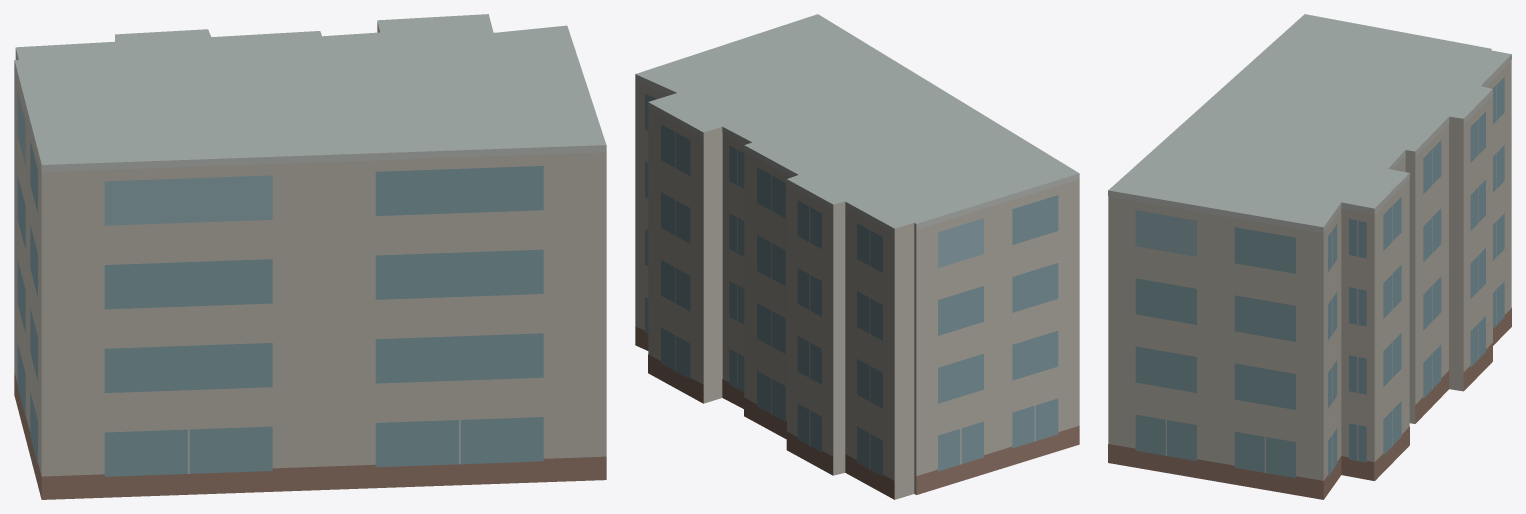
The model's file is survey-upis-32520788.glb.
3 views of the same model, side by side, from view 1: azimuth 30°, elevation 25°; view 2: azimuth 150°, elevation 25°; view 3: azimuth 270°, elevation 25° (orthographic). The views are drawn at different scales.
Parts seen in each view (by area): view 1: survey-upis-32520788.tmp; view 2: survey-upis-32520788.tmp; view 3: survey-upis-32520788.tmp.
Boxes of the visible parts, <box> form: survey-upis-32520788.tmp: <box>14,14,606,499</box>; survey-upis-32520788.tmp: <box>635,14,1079,499</box>; survey-upis-32520788.tmp: <box>1108,14,1511,499</box>.
Size of the model in its own units: 19.06 by 11.35 by 15.25.
